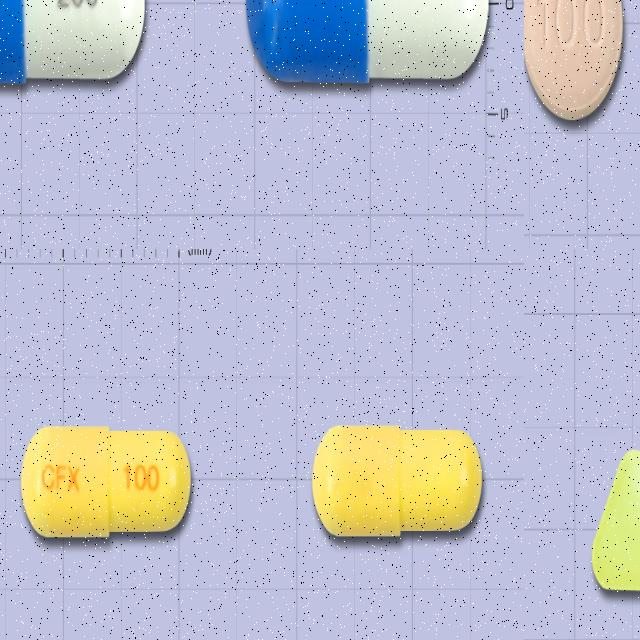Flomox: (524, 0, 624, 120)
Kukje Cefixime Cap: (21, 424, 192, 538), (311, 424, 484, 536)
Rheumide Tab: (591, 448, 640, 592)
Viread Tab: (246, 0, 490, 86), (0, 0, 146, 87)
